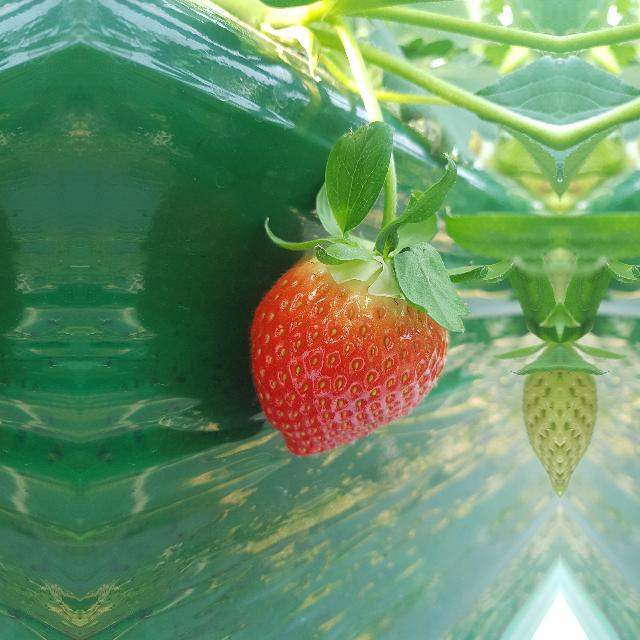Health_100: (250, 250, 448, 456)
